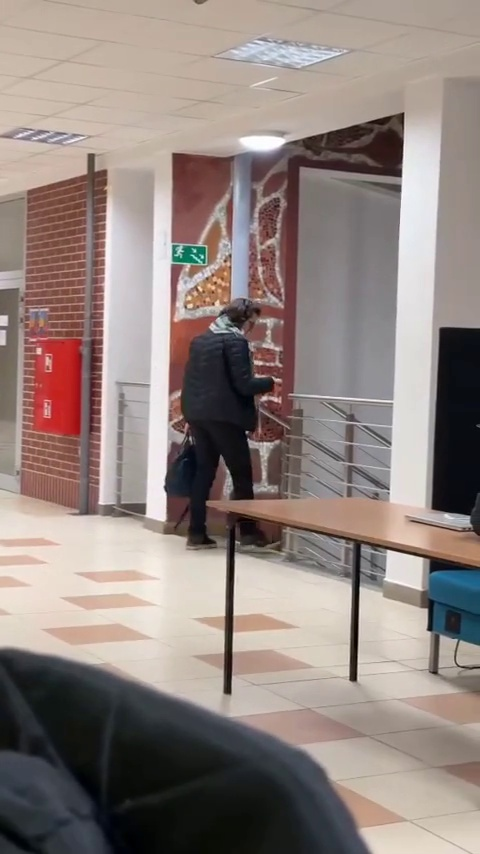no vest: (164, 299, 289, 545)
